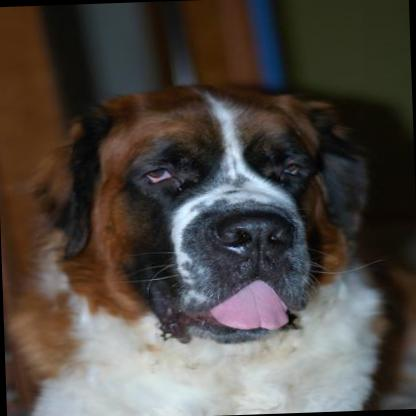Saint_Bernard: (4, 77, 393, 416)
